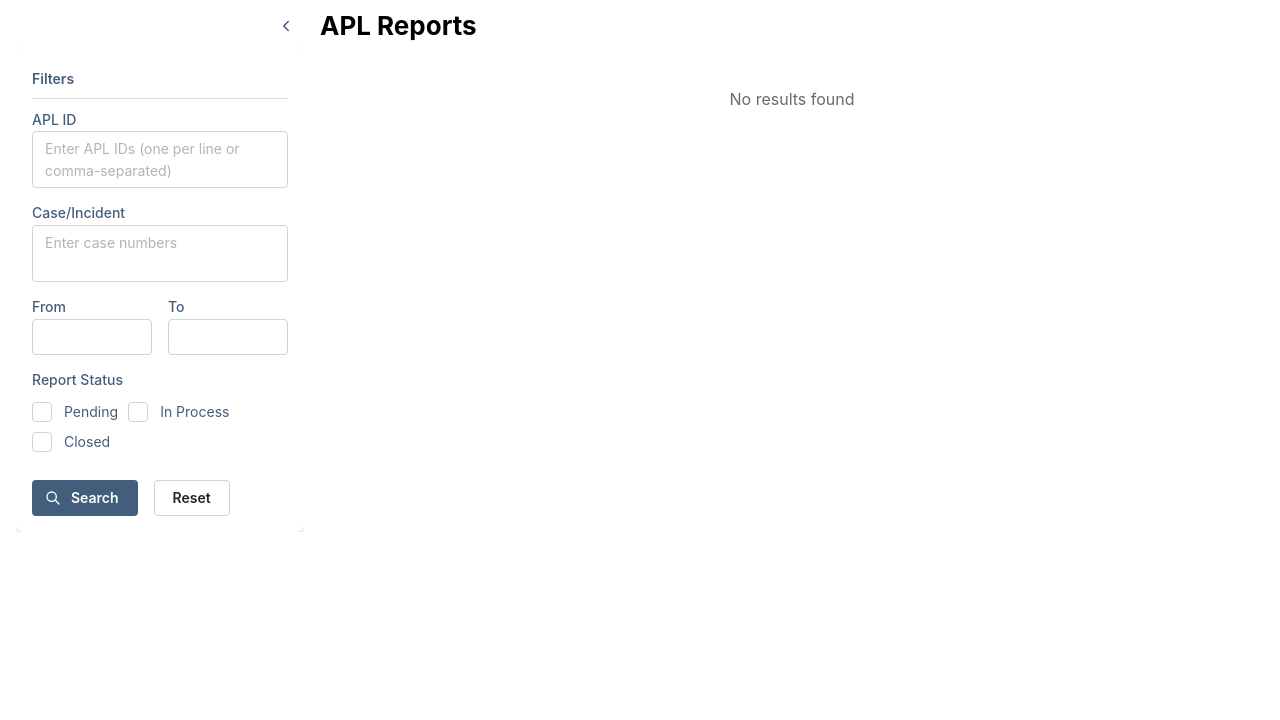
Test: SearchAPLPage (integration) › shows BIQLoadingOverlay with Cancel while fetching; clicking Cancel hides it
Submit the form with test id "search-apl-filter", box [32,107,288,516]
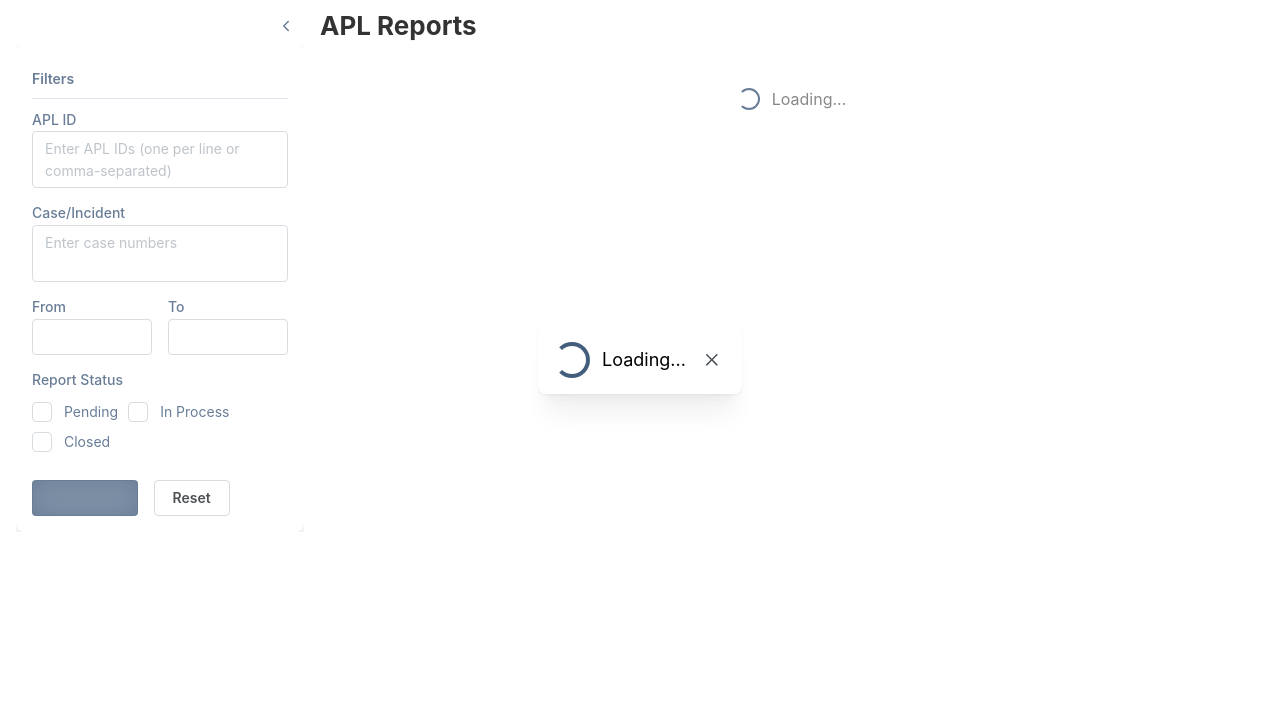
expect the element with test id "biq-loading-overlay" is shown: met
Click the button with test id "biq-loading-overlay-cancel".
click(712, 360)  # box [698,346,726,374]
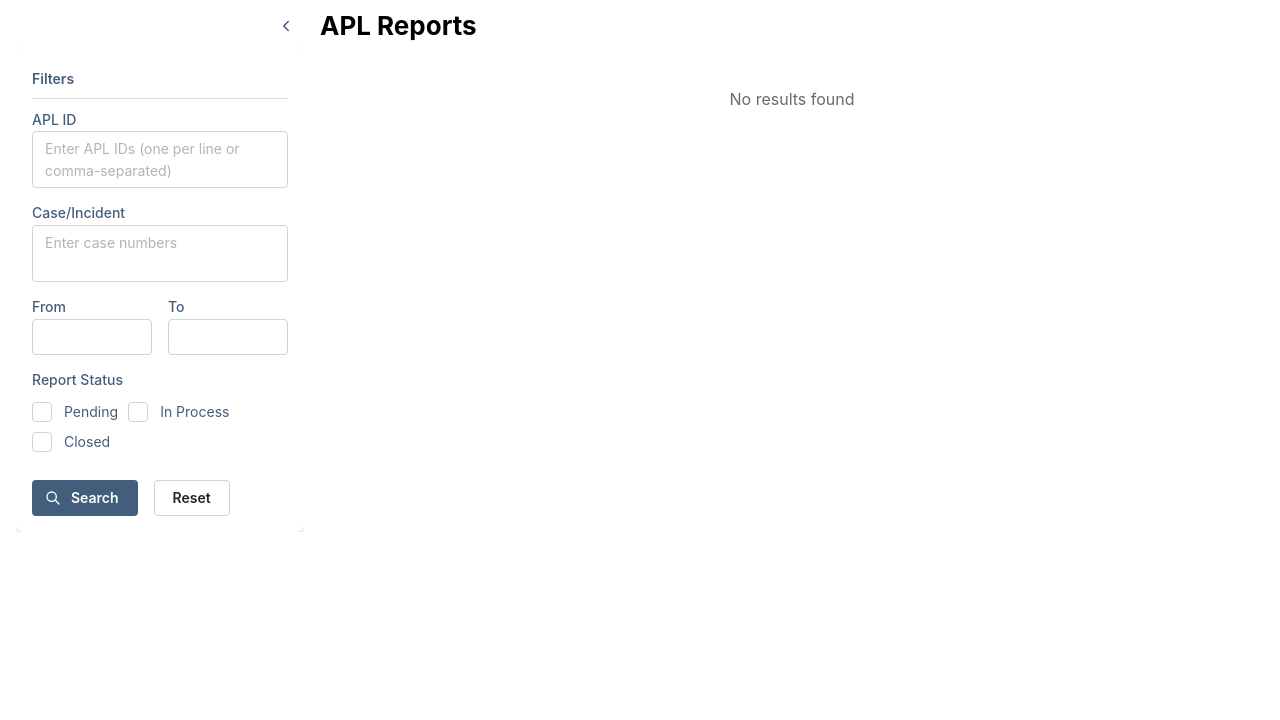
expect the element with test id "biq-loading-overlay" is gone: met
